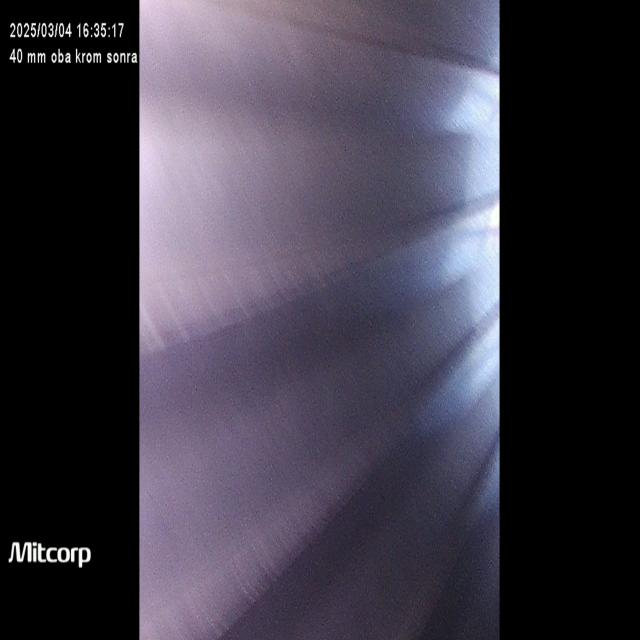hata_8.1: (146, 252, 447, 357)
